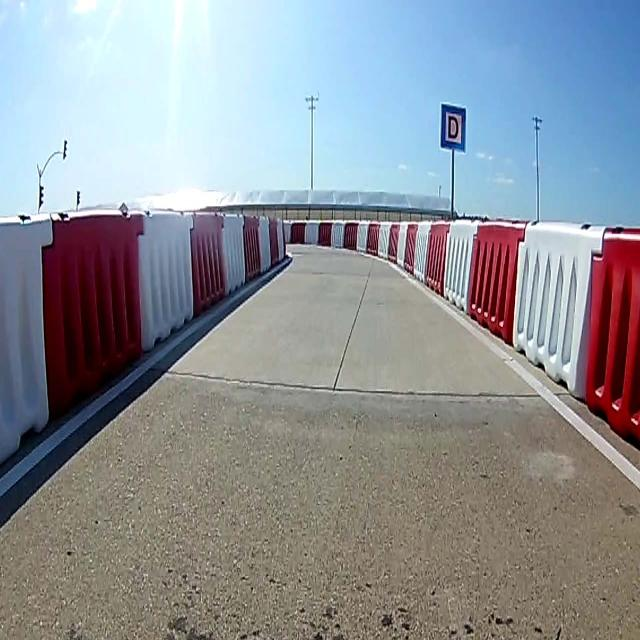durak: (441, 103, 464, 149)
